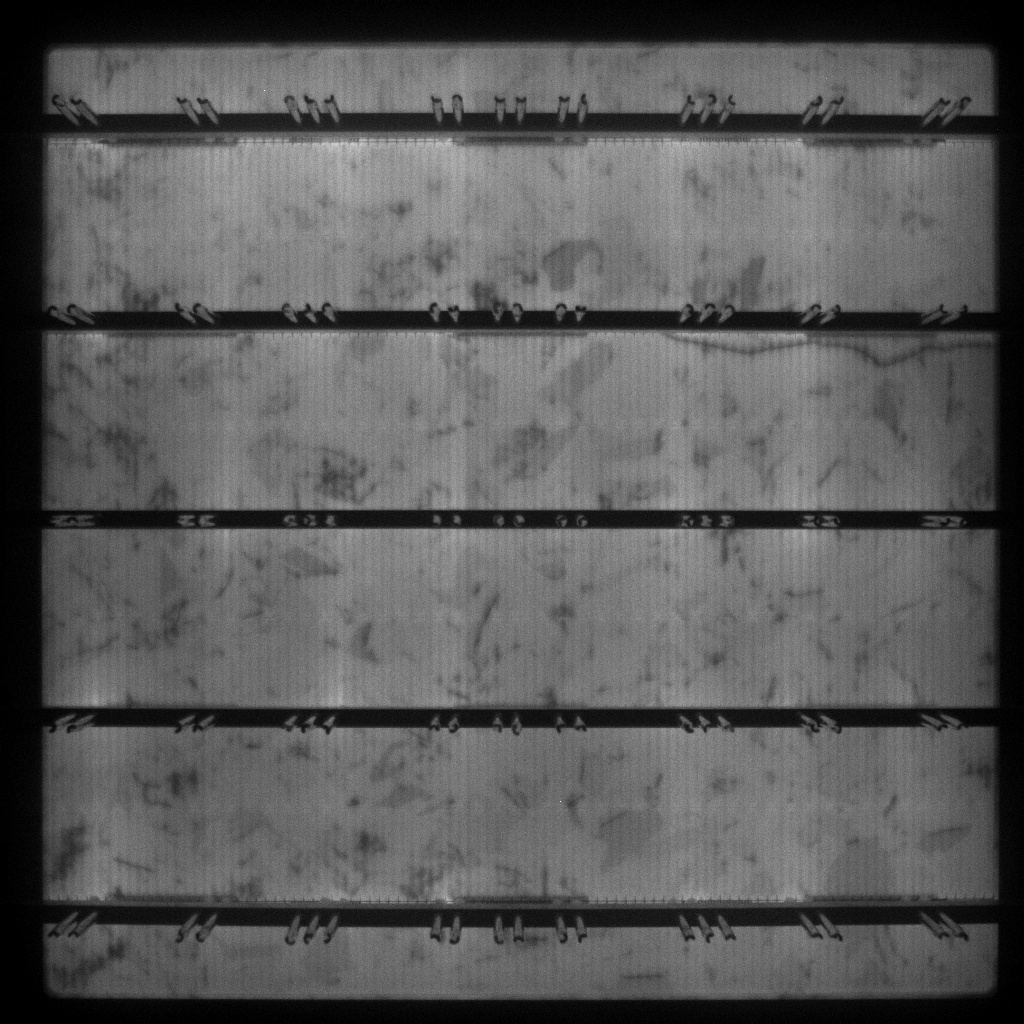crack: (665, 335, 991, 370)
